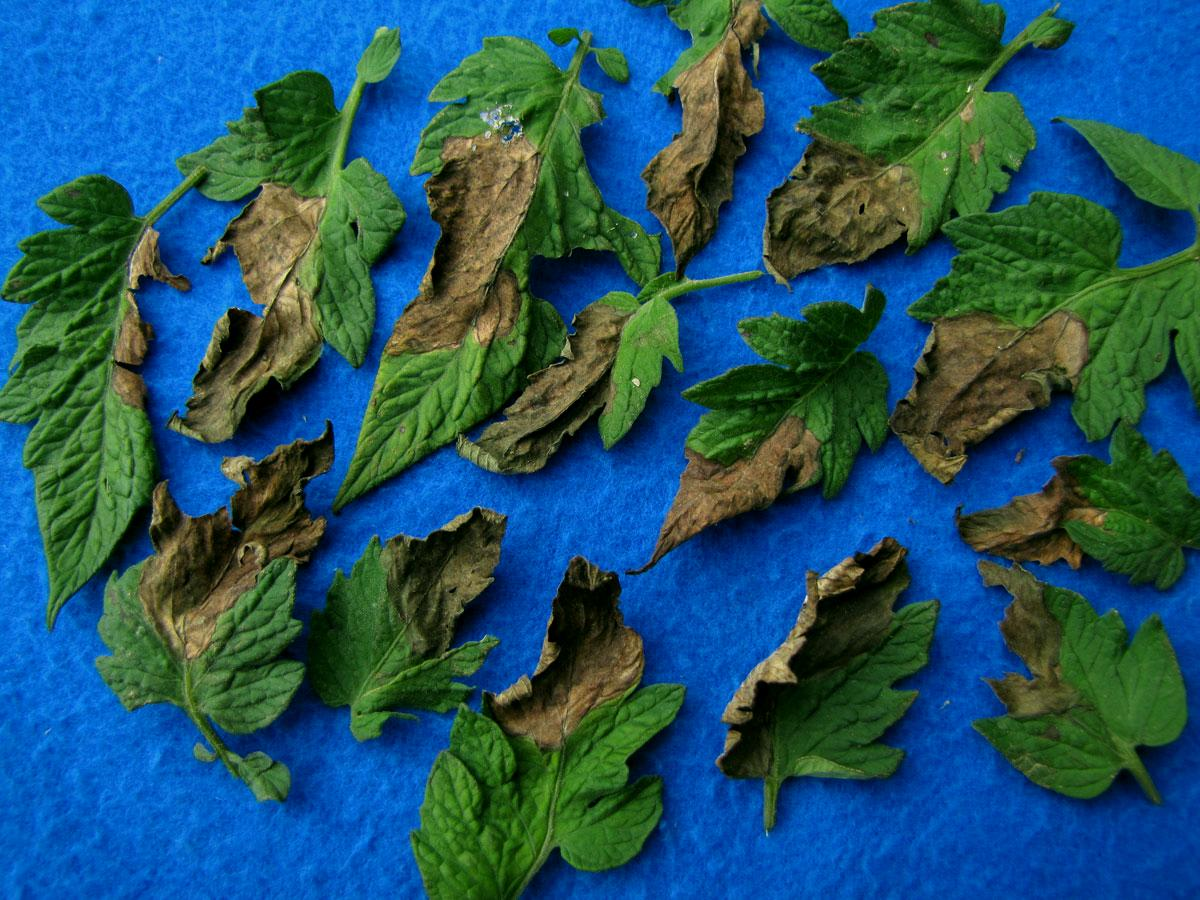Tomato leaf late blight: (350, 38, 592, 491), (398, 563, 681, 899), (95, 424, 345, 796), (174, 36, 397, 451), (760, 7, 1063, 277), (4, 158, 182, 606), (703, 529, 944, 810), (652, 296, 903, 539), (277, 502, 540, 727), (453, 279, 725, 483), (976, 557, 1185, 821), (949, 447, 1200, 577)
